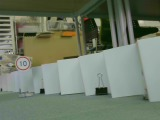speed_10: (14, 56, 32, 72)
